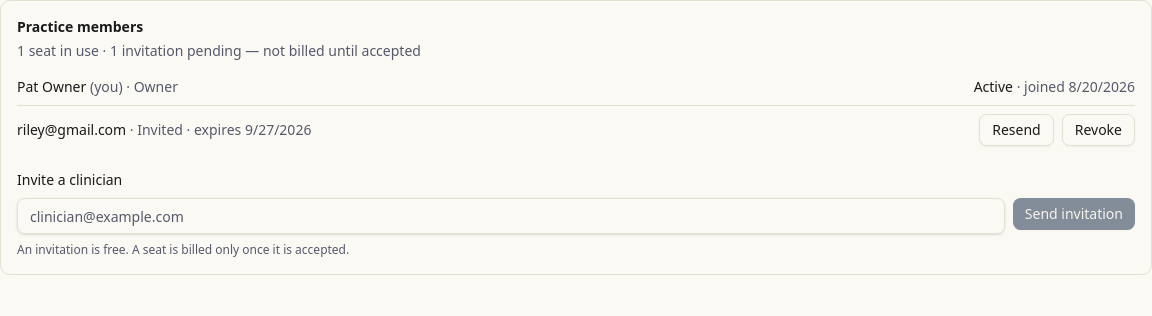
PracticeRoster › shows the reason a revoke was refused and reloads the roster
Click the button with aria-label "Revoke invitation" at (1098, 130), box x1=1062 y1=114 x2=1135 y2=146
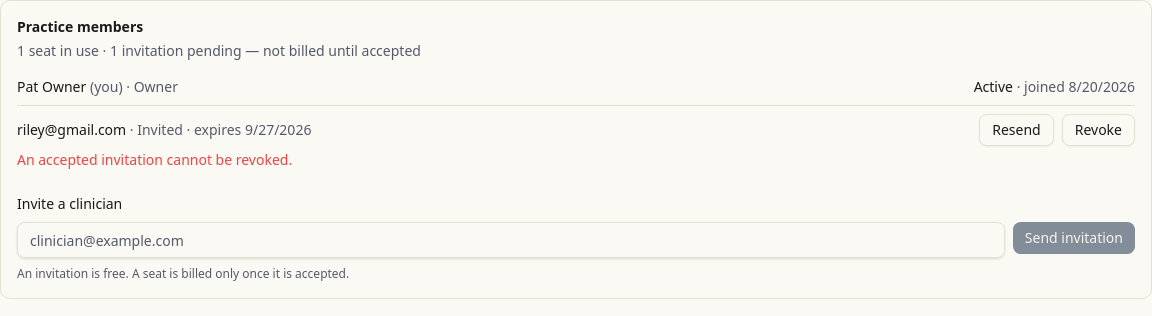
Check: the message reads "An accepted invitation cannot be revoked.", box x1=17 y1=150 x2=292 y2=169
